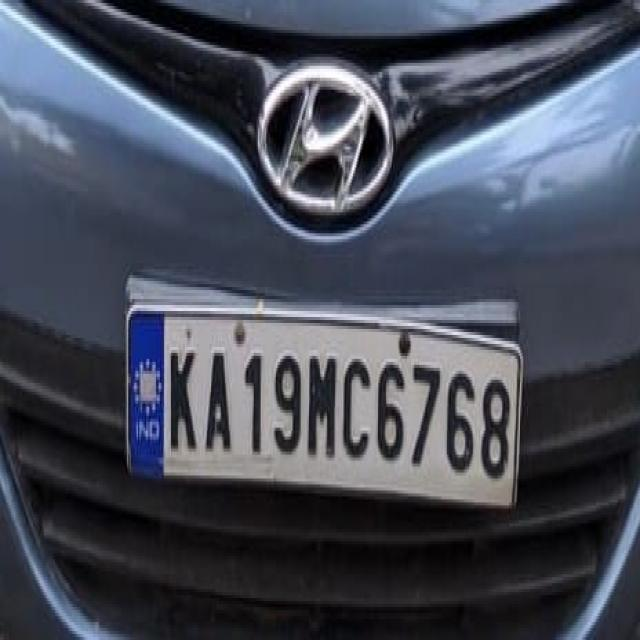1: (240, 344, 268, 464)
6: (446, 355, 478, 483), (374, 353, 404, 470)
7: (408, 352, 443, 478)
8: (481, 365, 513, 494)
9: (270, 345, 304, 461)
A: (200, 342, 238, 463)
C: (343, 342, 373, 468)
K: (163, 340, 201, 460)
M: (305, 339, 342, 469)
